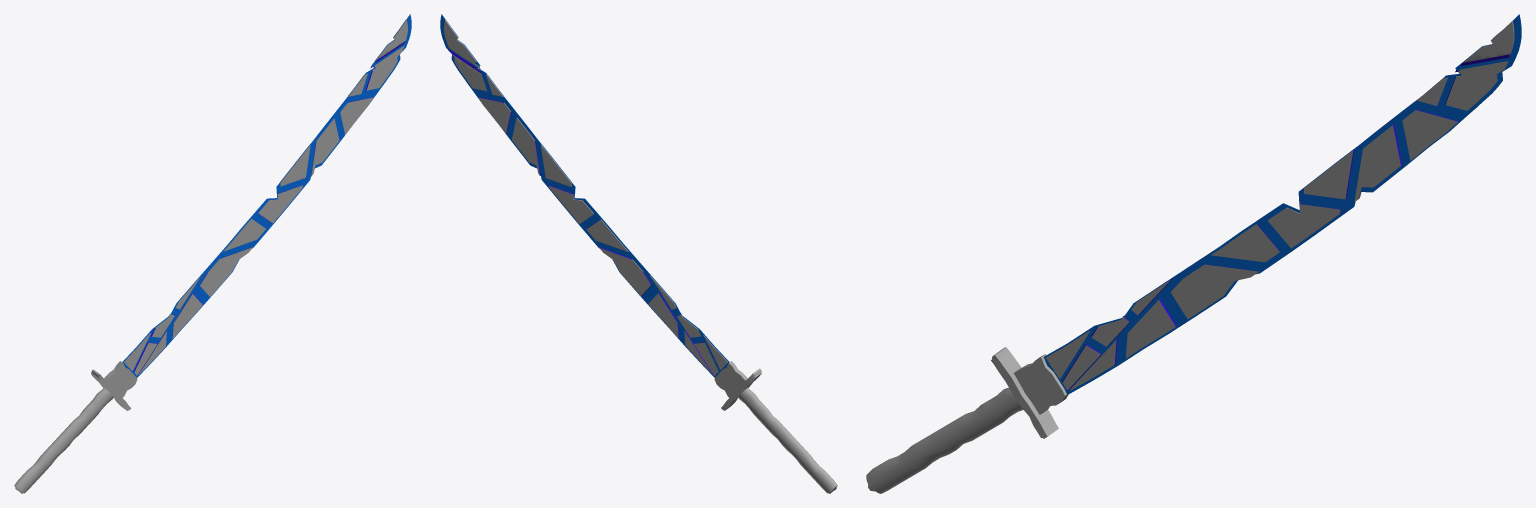
The model's file is Katana.fbx.
The picture shows the model from 3 angles, left to right: view 1: azimuth 30°, elevation 25°; view 2: azimuth 150°, elevation 25°; view 3: azimuth 330°, elevation 25°; orthographic projection. The views are drawn at different scales.
Visible parts, largest first — view 1: sword_3; view 2: sword_3; view 3: sword_3.
Boxes of the visible parts, <box> form: sword_3: <box>14,14,411,493</box>; sword_3: <box>440,14,837,493</box>; sword_3: <box>866,14,1521,493</box>.
Bounding box in the file's own units: 2.63 × 2.44 × 0.0855.
